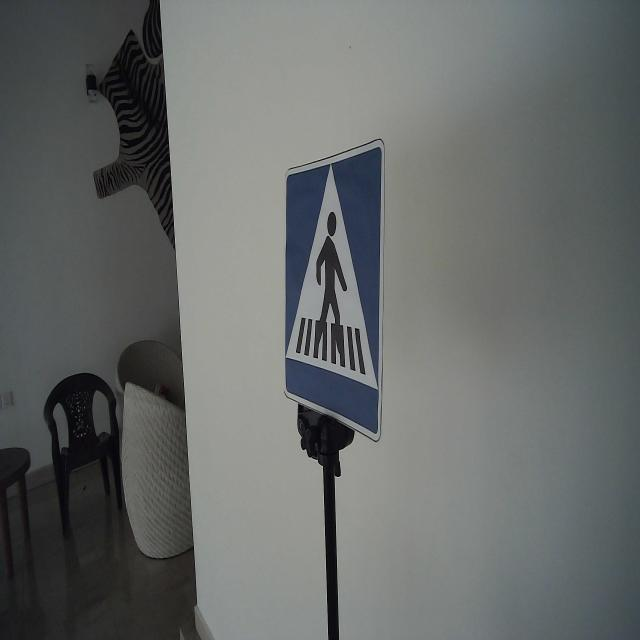crosswalk_sign: (280, 136, 388, 447)
